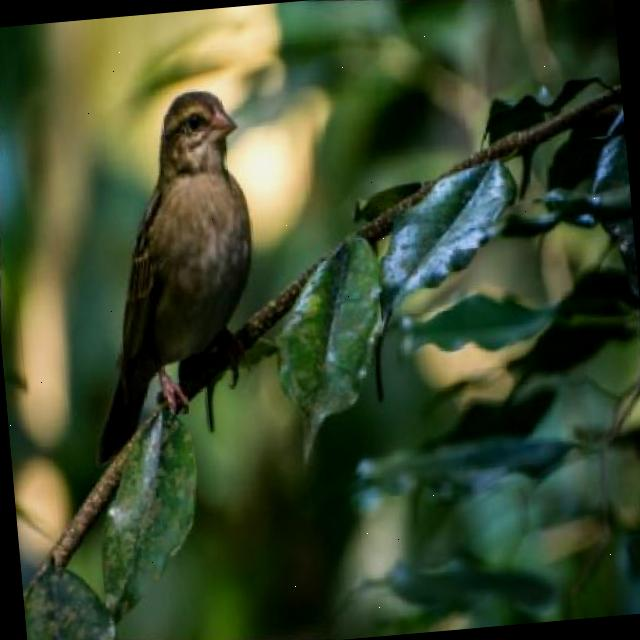sparrow: (70, 78, 283, 475)
